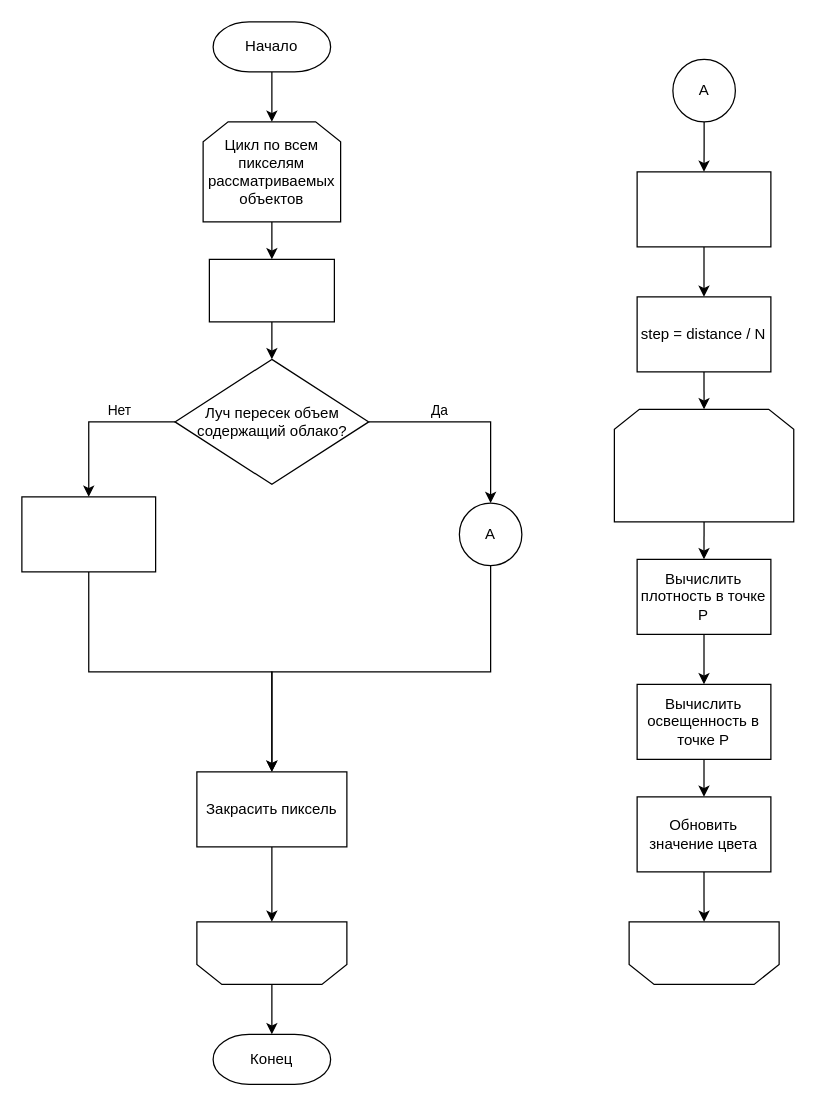
The diagram is 816 pixels wide and 1106 high, and some of its shapes have lost their labels. The centre of each missing label's shape, as x and y in pixels:
Конец цикла по P: [703,952]
Конец цикла по пикселям: [271,952]
Рассчитать длину пути луча в облаке distance: [703,209]
Создать луч: [271,290]
цвет = цвет фона: [88,534]
Цикл по P от точки входа луча в объем до точки выхода с шагом step: [703,465]
